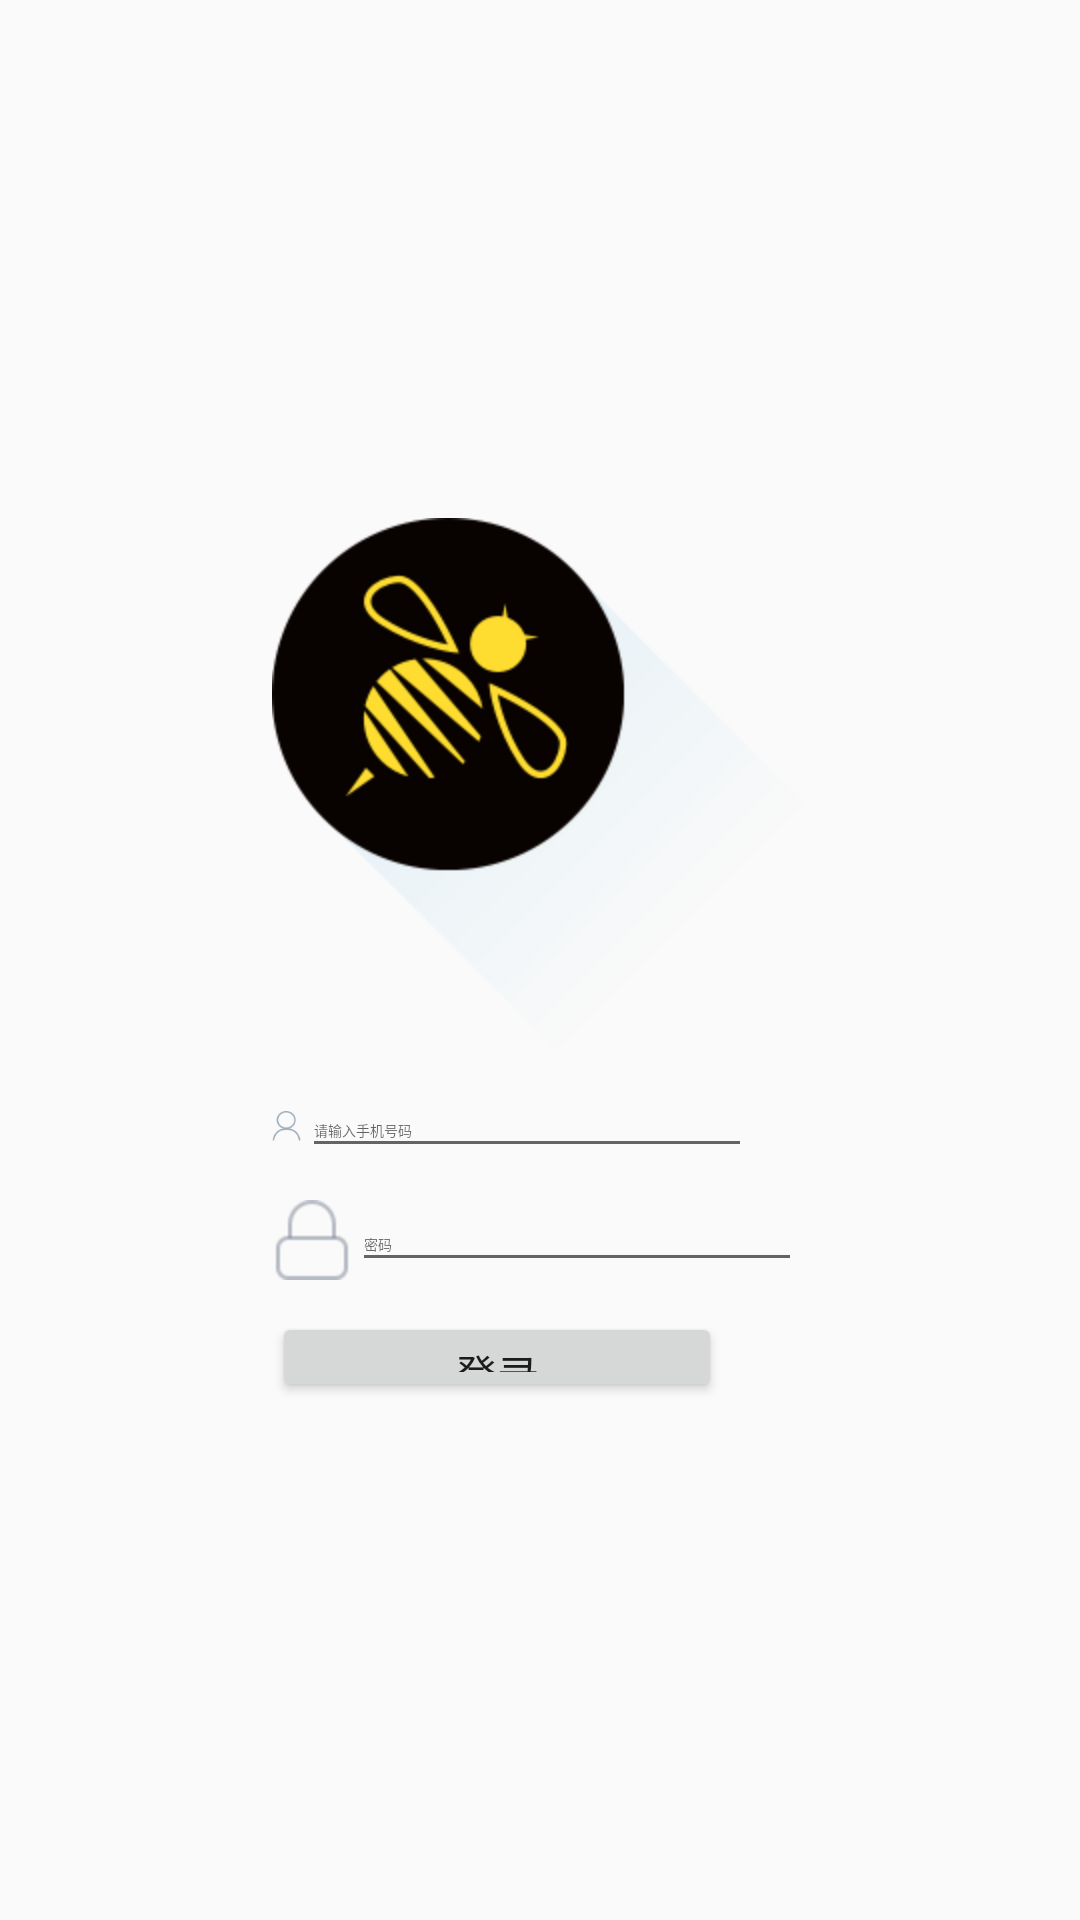

Icon bounding boxes for this 1080w x 1920h phone screenshot, format [x1, y1, x2, y2]:
user: [273, 1111, 301, 1141]
